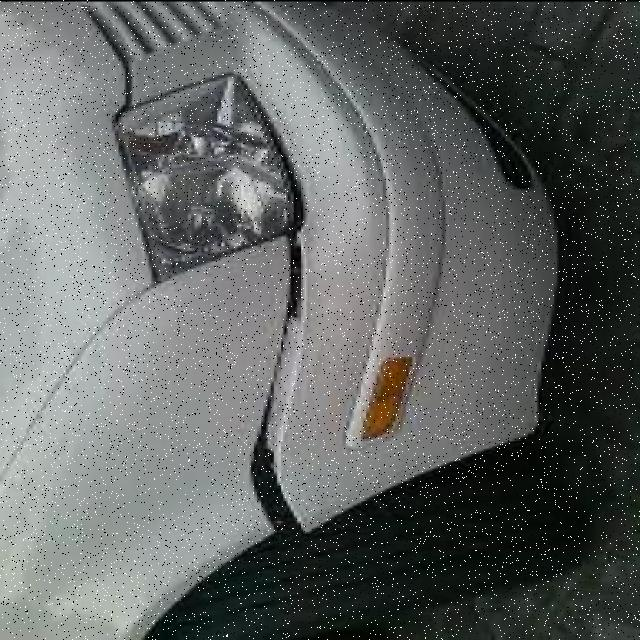damage: (234, 238, 325, 537)
